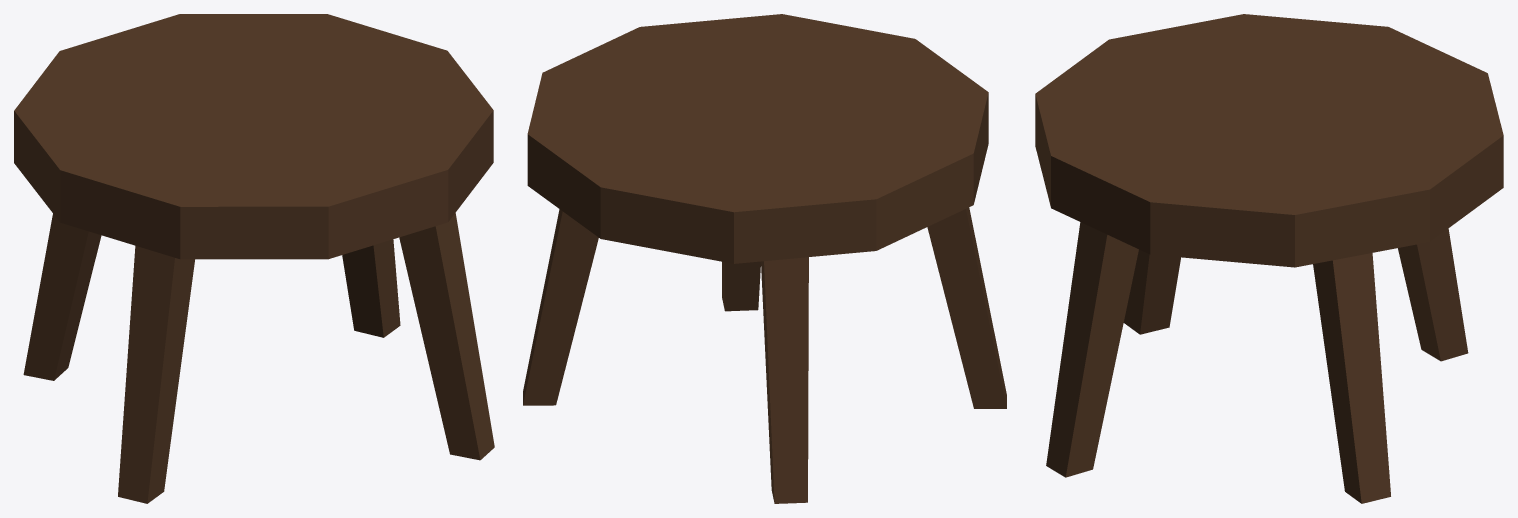
File: Bench 4.glb
3 renders of one model, left to right at view 1: azimuth 30°, elevation 25°; view 2: azimuth 150°, elevation 25°; view 3: azimuth 270°, elevation 25°, orthographic.
Parts seen in each view (by area): view 1: Bench 4; view 2: Bench 4; view 3: Bench 4.
Part boxes in pixels (x1,y1,x2,y2): Bench 4: (14, 14, 494, 503); Bench 4: (523, 14, 1006, 503); Bench 4: (1035, 14, 1503, 503).
Size of what is drawn, in the model's own units: 0.5216 by 0.3575 by 0.5134.
1 material, 1 textured.
